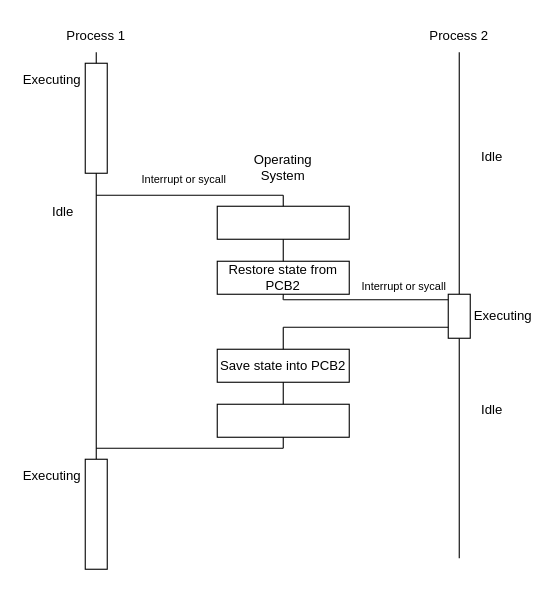
Some shapes in this 554 by 589 pixel diagram are drawn without their labels. Each missing label, with the centre of its shape:
Restore state from PCB1: the point at 282,420
Save state into PCB1: the point at 282,222
